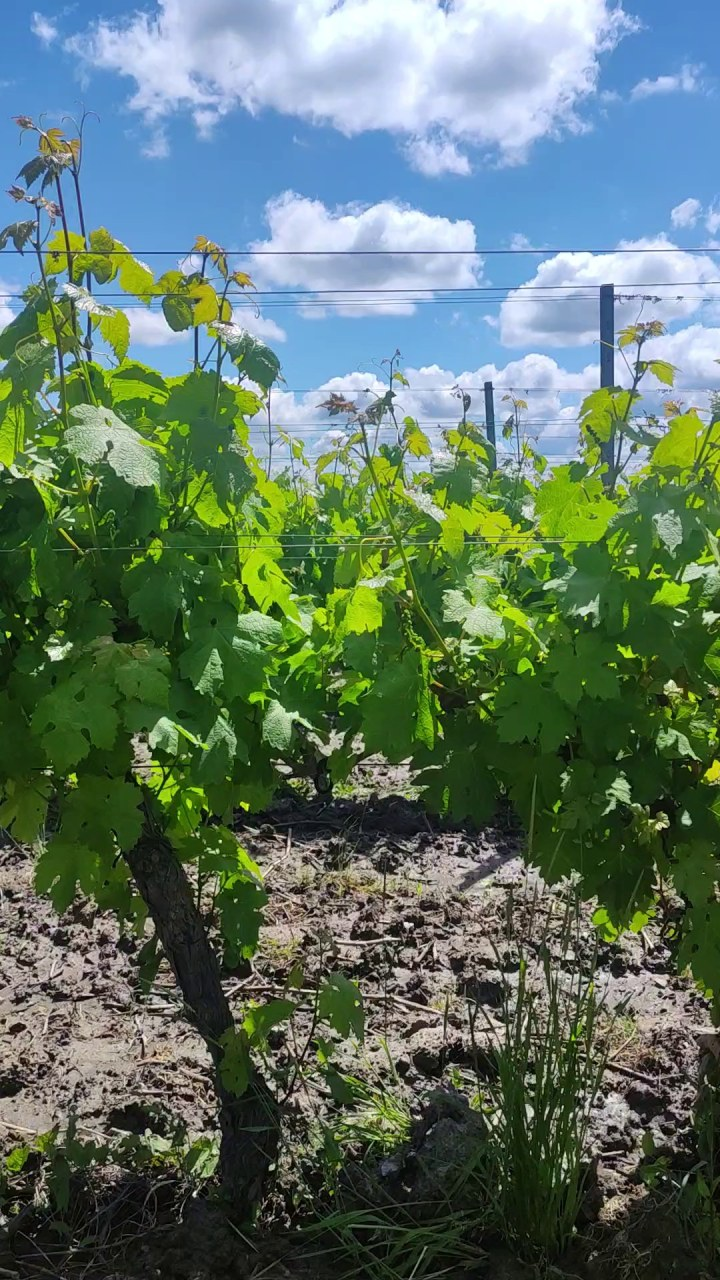vine_trunk: (127, 825, 279, 1214)
